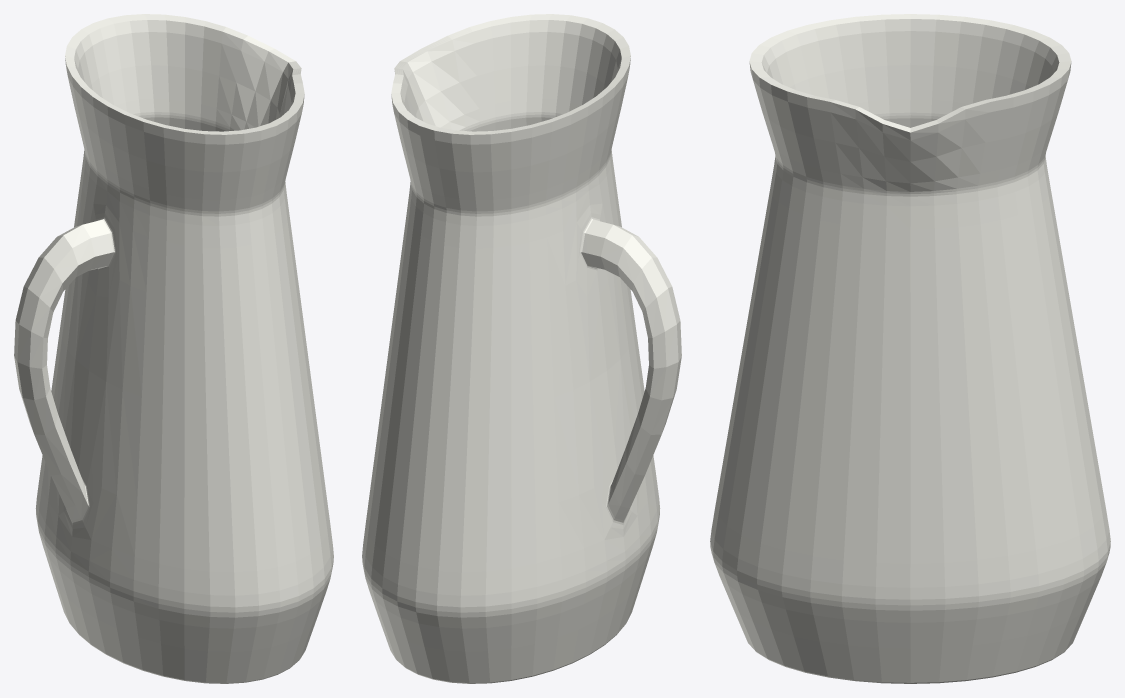
The model's file is jug_0.glb.
3 renders of one model, left to right at view 1: azimuth 30°, elevation 25°; view 2: azimuth 150°, elevation 25°; view 3: azimuth 270°, elevation 25°, orthographic. The views are drawn at different scales.
Parts seen in each view (by area): view 1: jug_0; view 2: jug_0; view 3: jug_0.
Part boxes in pixels (x1=…): jug_0: x1=14, y1=14, x2=333, y2=683; jug_0: x1=362, y1=14, x2=681, y2=683; jug_0: x1=710, y1=14, x2=1110, y2=683.
Size of the model in its own units: 0.1702 by 0.3165 by 0.1997.
1 material, 1 textured.
